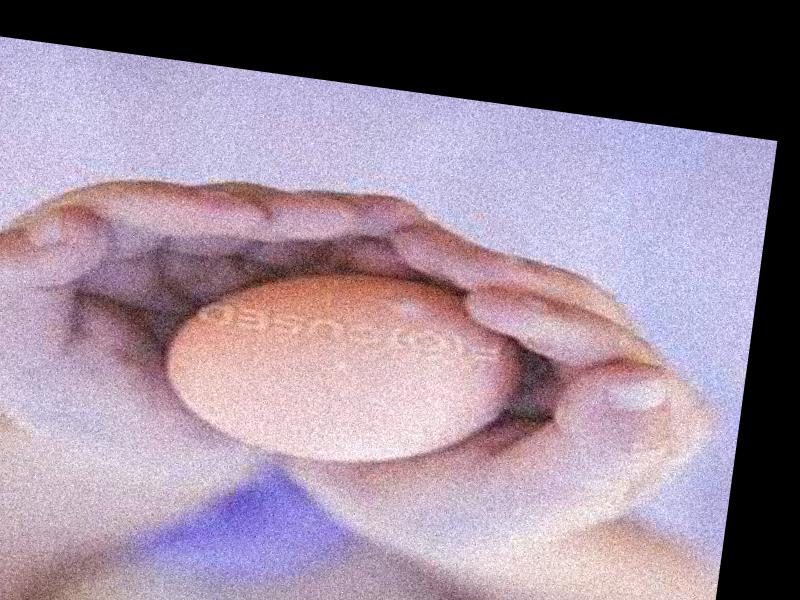Eggs: (150, 248, 526, 486)
